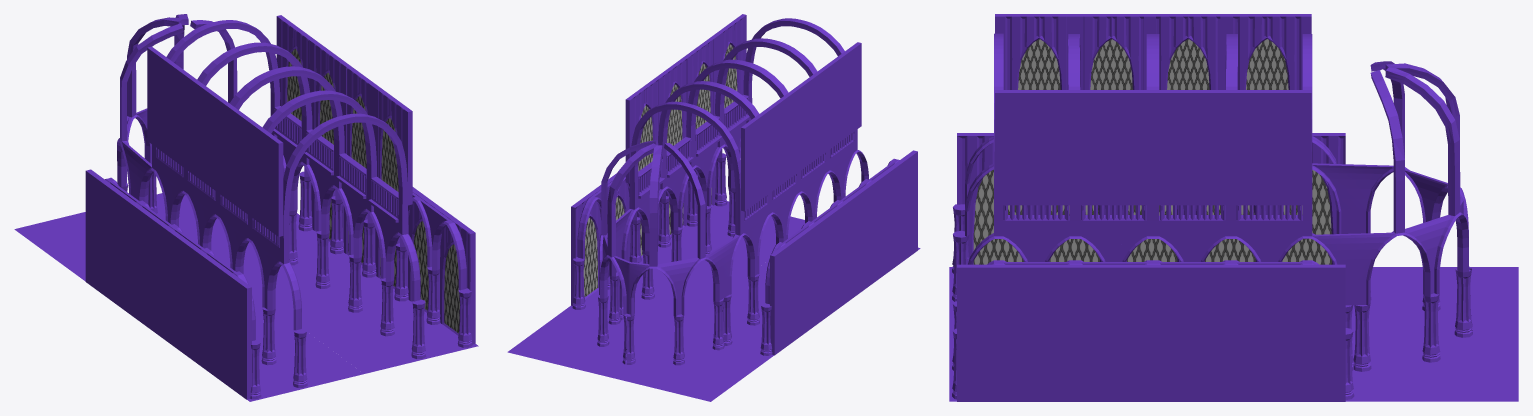
The model's file is kirkkosisöltätesti.fbx.
3 renders of one model, left to right at view 1: azimuth 30°, elevation 25°; view 2: azimuth 150°, elevation 25°; view 3: azimuth 270°, elevation 25°, orthographic. The views are drawn at different scales.
Visible parts, largest first — view 1: Plane008; view 2: Plane008; view 3: Plane008.
Boxes of the visible parts, bbox=[...] form: Plane008: bbox=[14, 14, 478, 401]; Plane008: bbox=[507, 14, 920, 401]; Plane008: bbox=[949, 14, 1518, 401].
Size of the model in its own units: 1573 by 1591 by 2809.
